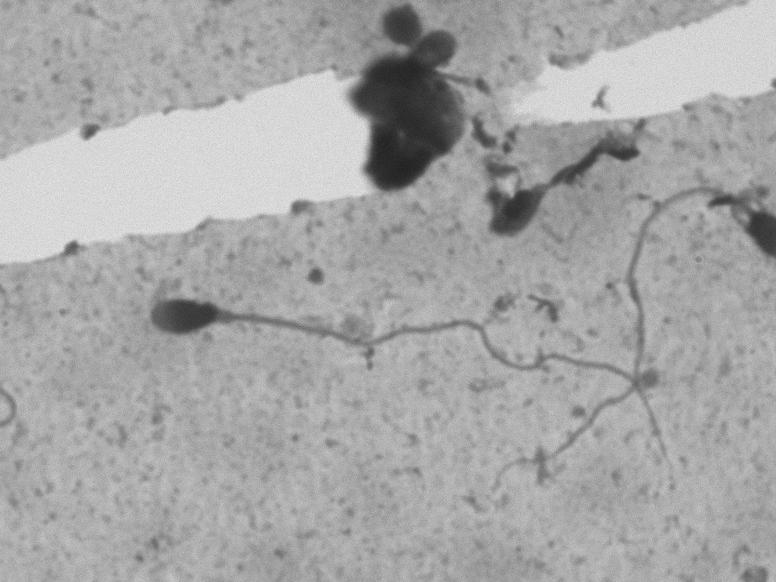Normal: (89, 285, 712, 484)
